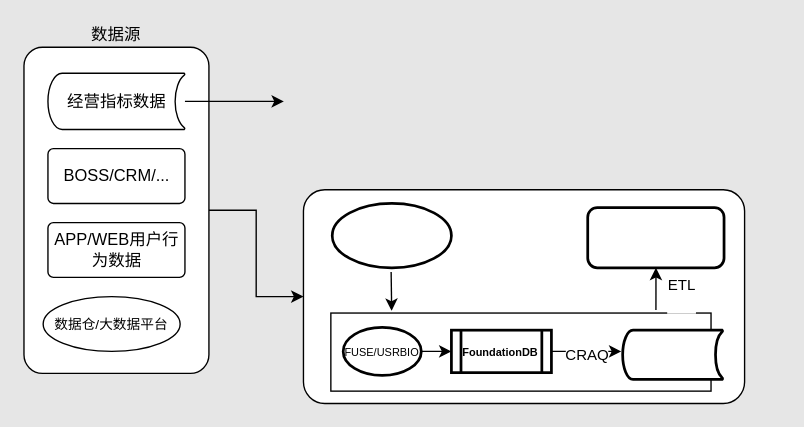
Image size: 804x427. Some labels were removed from this diagram. Each missing label, with the box of its shape:
3FS: (329, 312, 711, 391)
FFRecord: (330, 201, 452, 269)
Sharding/Compression/Filtering/Shuffling: (586, 206, 725, 269)
STORAGE: (621, 328, 723, 380)
